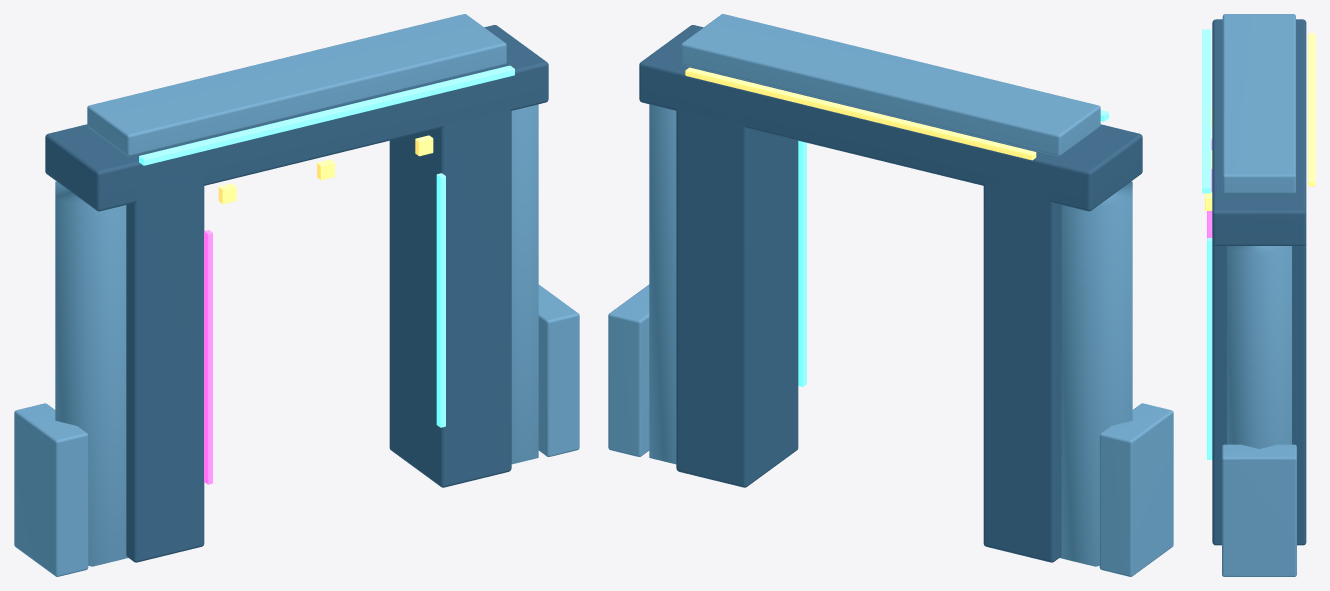
File: neo_tokyo_flight_gate.glb
3 views of the same model, side by side, from view 1: azimuth 30°, elevation 25°; view 2: azimuth 150°, elevation 25°; view 3: azimuth 270°, elevation 25° (orthographic). The views are drawn at different scales.
Parts seen in each view (by area): view 1: gate_side_pylon.001, gate_side_pylon, gate_top_crown, gate_top_deck, gate_outer_hex_core, gate_outer_anchor, gate_outer_hex_core.001, gate_outer_anchor.001, gate_entry_lip_cyan, gate_inner_light_band.001, gate_inner_light_band; view 2: gate_side_pylon.001, gate_side_pylon, gate_top_crown, gate_top_deck, gate_outer_hex_core, gate_outer_anchor, gate_outer_hex_core.001, gate_outer_anchor.001, gate_entry_lip_amber, gate_inner_light_band.001; view 3: gate_top_crown, gate_outer_hex_core.001, gate_outer_anchor.001, gate_top_deck, gate_side_pylon.001, gate_entry_lip_cyan, gate_inner_light_band.001, gate_entry_lip_amber, gate_inner_light_band.
Boxes of the visible parts, <box> form: gate_side_pylon.001: <box>389,109,511,487</box>; gate_side_pylon: <box>126,171,204,562</box>; gate_top_crown: <box>87,14,506,156</box>; gate_top_deck: <box>45,25,548,211</box>; gate_outer_hex_core: <box>55,181,127,566</box>; gate_outer_anchor: <box>14,403,88,576</box>; gate_outer_hex_core.001: <box>511,104,538,464</box>; gate_outer_anchor.001: <box>538,284,579,456</box>; gate_entry_lip_cyan: <box>139,65,514,165</box>; gate_inner_light_band.001: <box>436,173,445,427</box>; gate_inner_light_band: <box>204,230,212,484</box>; gate_side_pylon.001: <box>676,101,798,487</box>; gate_side_pylon: <box>983,171,1061,562</box>; gate_top_crown: <box>681,14,1100,156</box>; gate_top_deck: <box>639,25,1142,211</box>; gate_outer_hex_core: <box>1060,181,1132,566</box>; gate_outer_anchor: <box>1099,403,1173,576</box>; gate_outer_hex_core.001: <box>649,104,676,464</box>; gate_outer_anchor.001: <box>608,284,649,456</box>; gate_entry_lip_amber: <box>685,67,1036,160</box>; gate_inner_light_band.001: <box>798,140,806,386</box>; gate_top_crown: <box>1222,14,1295,193</box>; gate_outer_hex_core.001: <box>1227,246,1291,448</box>; gate_outer_anchor.001: <box>1222,444,1296,576</box>; gate_top_deck: <box>1212,19,1306,245</box>; gate_side_pylon.001: <box>1212,243,1306,545</box>; gate_entry_lip_cyan: <box>1202,29,1211,193</box>; gate_inner_light_band.001: <box>1207,238,1212,459</box>; gate_entry_lip_amber: <box>1308,33,1315,186</box>; gate_inner_light_band: <box>1207,138,1212,238</box>.
Bounding box in the file's own units: 1298 × 1004 × 278.
